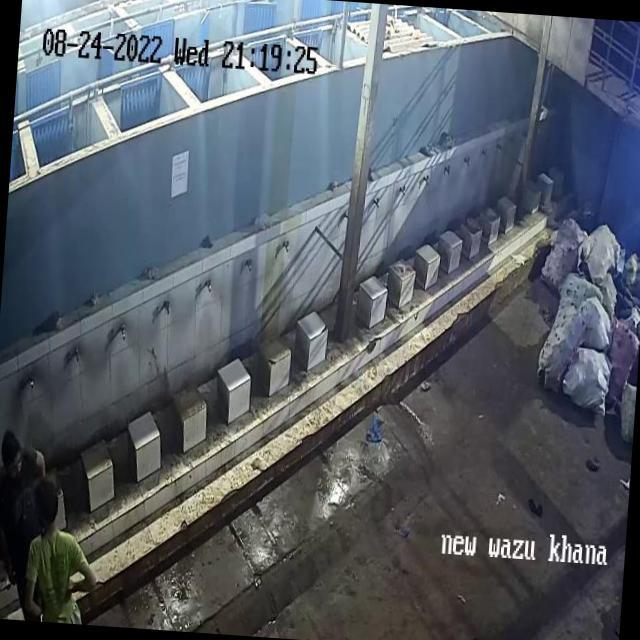person: (21, 476, 98, 624), (0, 430, 47, 545)
